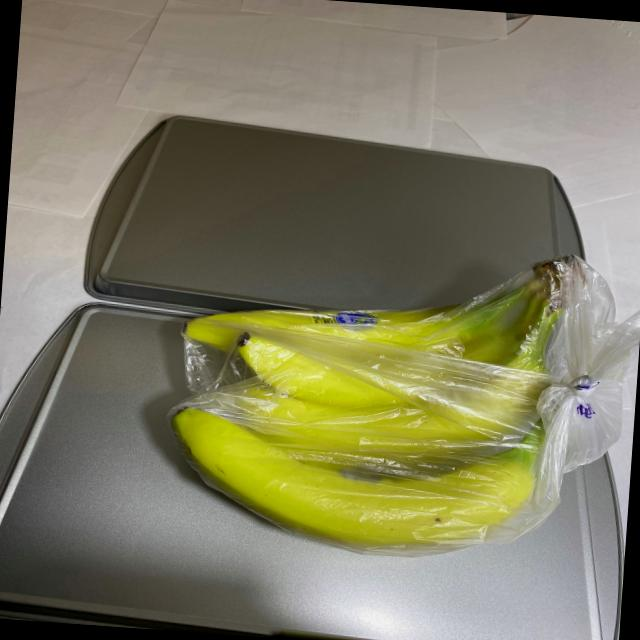banana: (165, 227, 589, 566)
